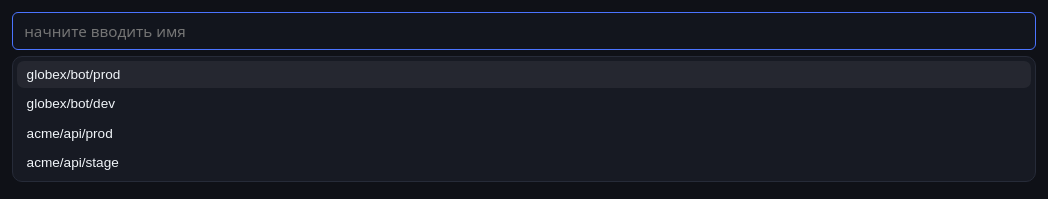
Test: PickInput › ничего не находит — говорит об этом
The width and height of the screenshot is (1048, 199).
Type "такого нет" into the dropdown at (524,31), box [12,12,1036,50]
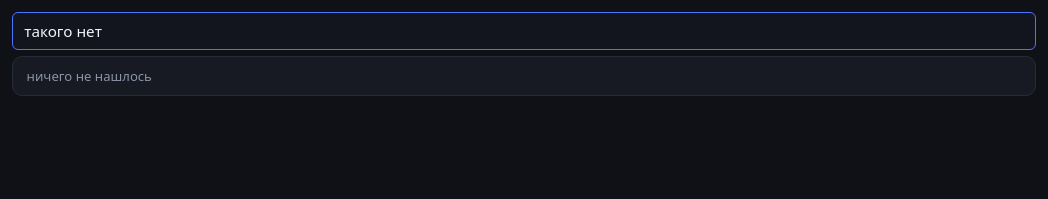
Result: no options are shown
Result: the text "ничего не нашлось" is shown at [27,67,152,85]
